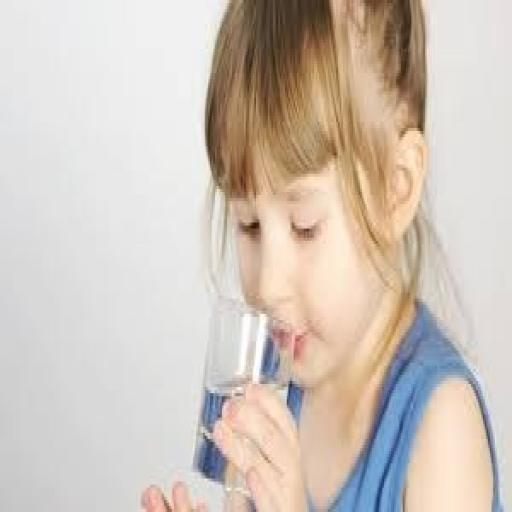drinking: (191, 0, 484, 494)
